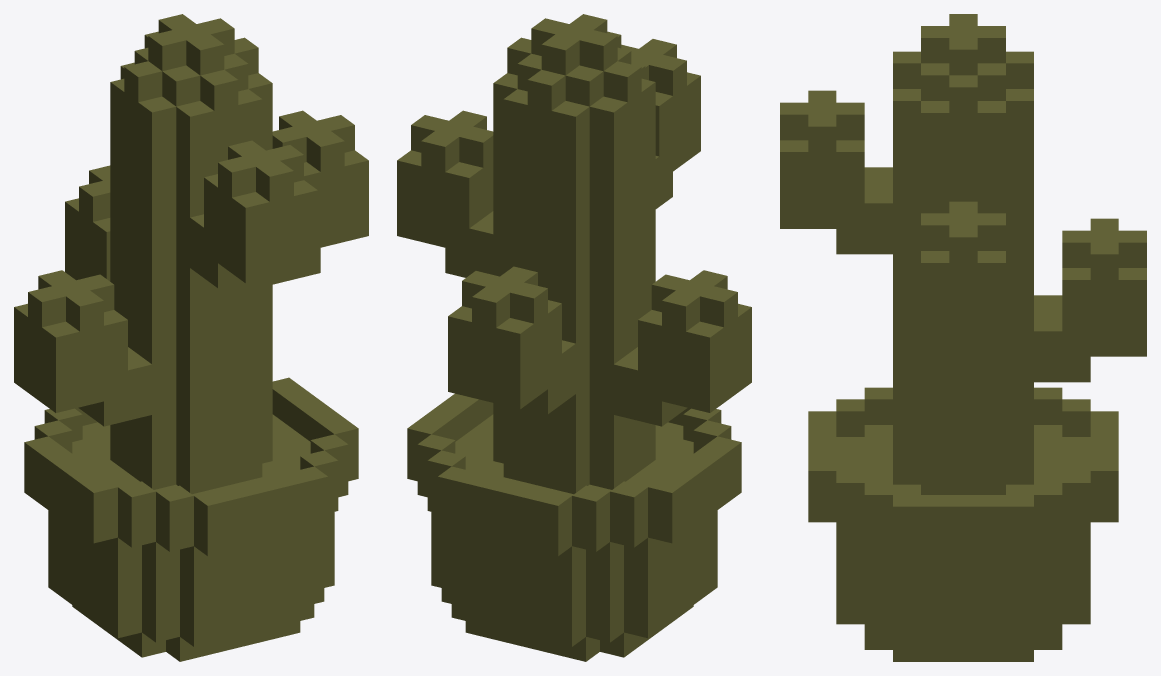
Rendered from cactus.obj.
3 renders of one model, left to right at view 1: azimuth 30°, elevation 25°; view 2: azimuth 150°, elevation 25°; view 3: azimuth 270°, elevation 25°, orthographic.
Visible parts, largest first — view 1: cactus; view 2: cactus; view 3: cactus.
Boxes of the visible parts, x1=… form: cactus: x1=14, y1=14, x2=368, y2=661; cactus: x1=397, y1=14, x2=751, y2=661; cactus: x1=780, y1=14, x2=1146, y2=661.
Bounding box in the file's own units: 1.3 × 2.3 × 1.3.
